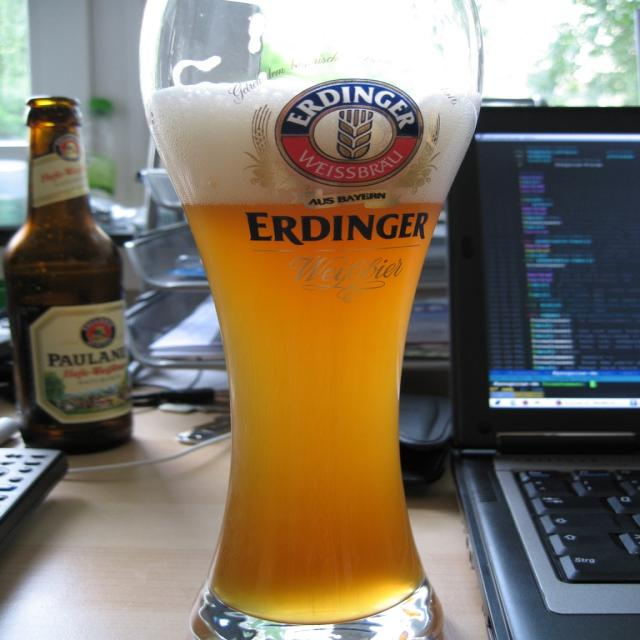erdinger: (230, 54, 461, 253)
